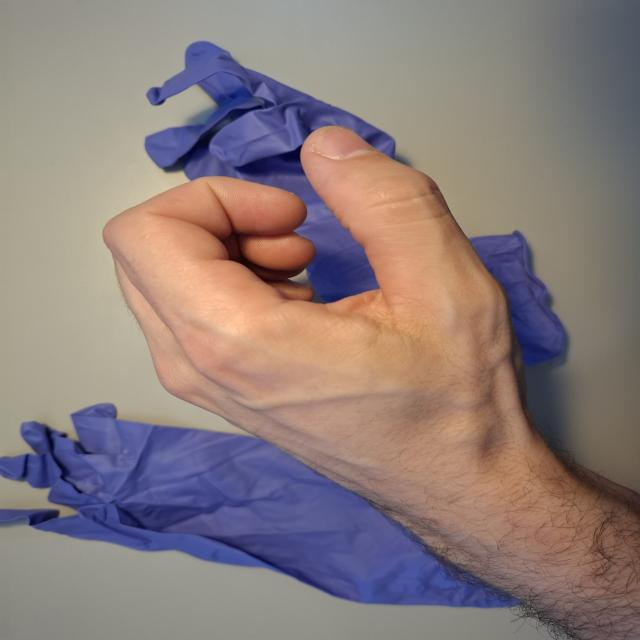glove_off: (99, 121, 580, 526)
